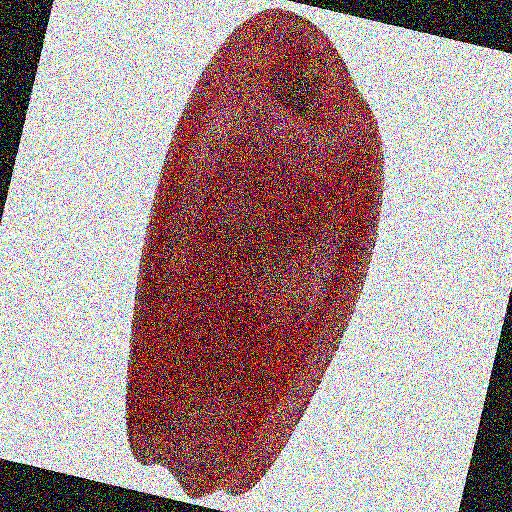fruit: (32, 84, 249, 431)
